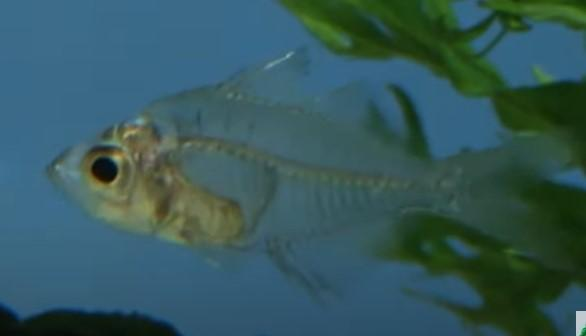Glass Perchlet: (40, 51, 565, 306)
